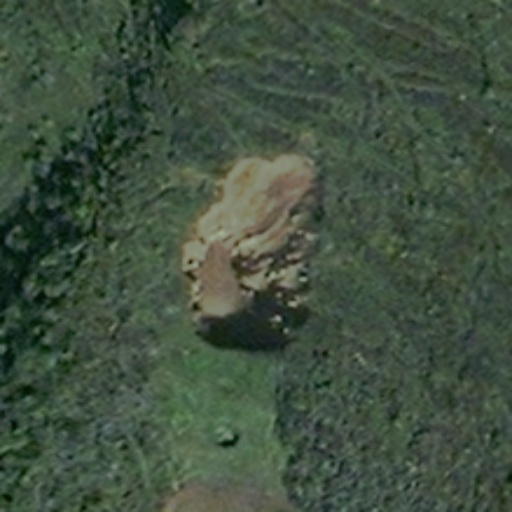landslide: (178, 150, 322, 330)
